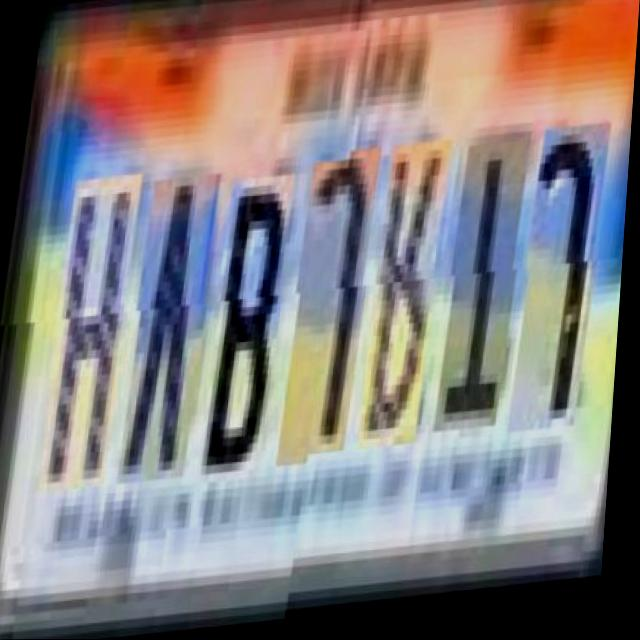b: (201, 171, 296, 480)
h: (42, 168, 143, 485)
j: (281, 155, 381, 465), (511, 135, 611, 444)
r: (360, 150, 451, 458)
t: (436, 151, 530, 443)
v: (122, 169, 221, 479)
